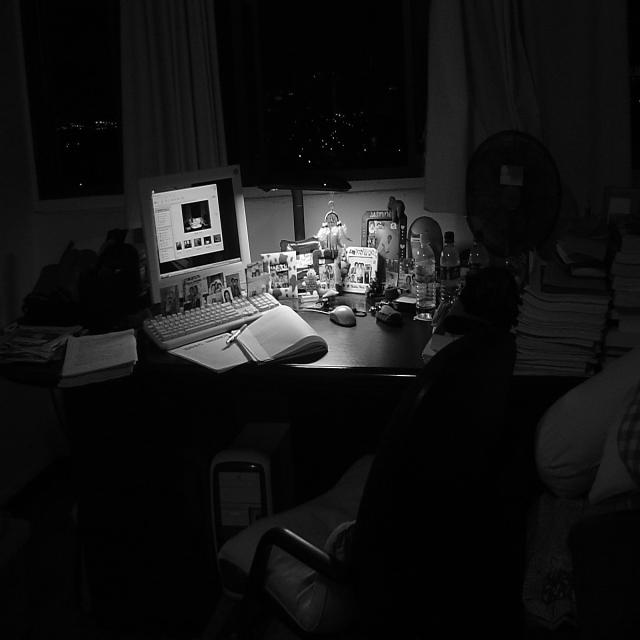Bottle: (404, 238, 440, 334), (441, 218, 472, 319)
chair: (201, 284, 538, 640)
